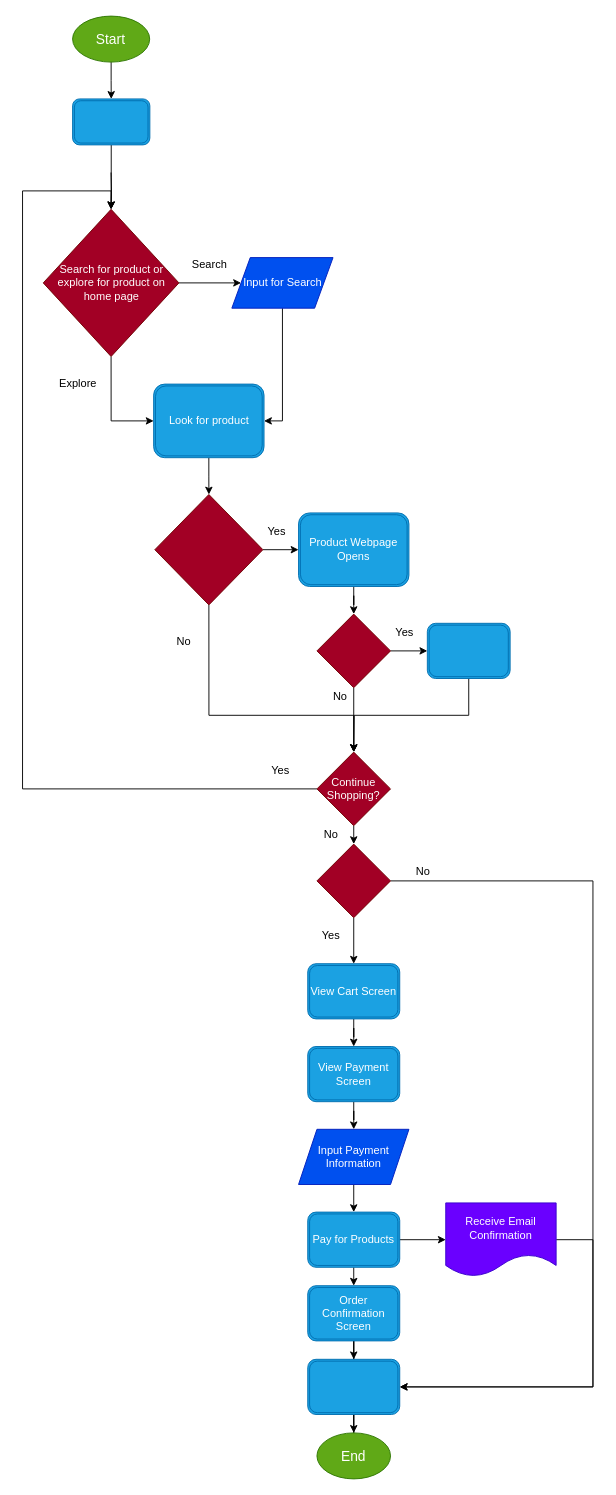
The diagram is 616 pixels wide and 1495 high, and some of its shapes have lost their labels. The shapes that lost their labels are listed below. From the top down, each one's centre as x and y in pixels, then its label:
(x=111, y=121): Enter Website
(x=208, y=549): View a Specific Product?
(x=353, y=650): Add to Cart?
(x=468, y=650): Receive added to cart confirmation
(x=353, y=880): Checkout?
(x=353, y=1386): Leave Website
